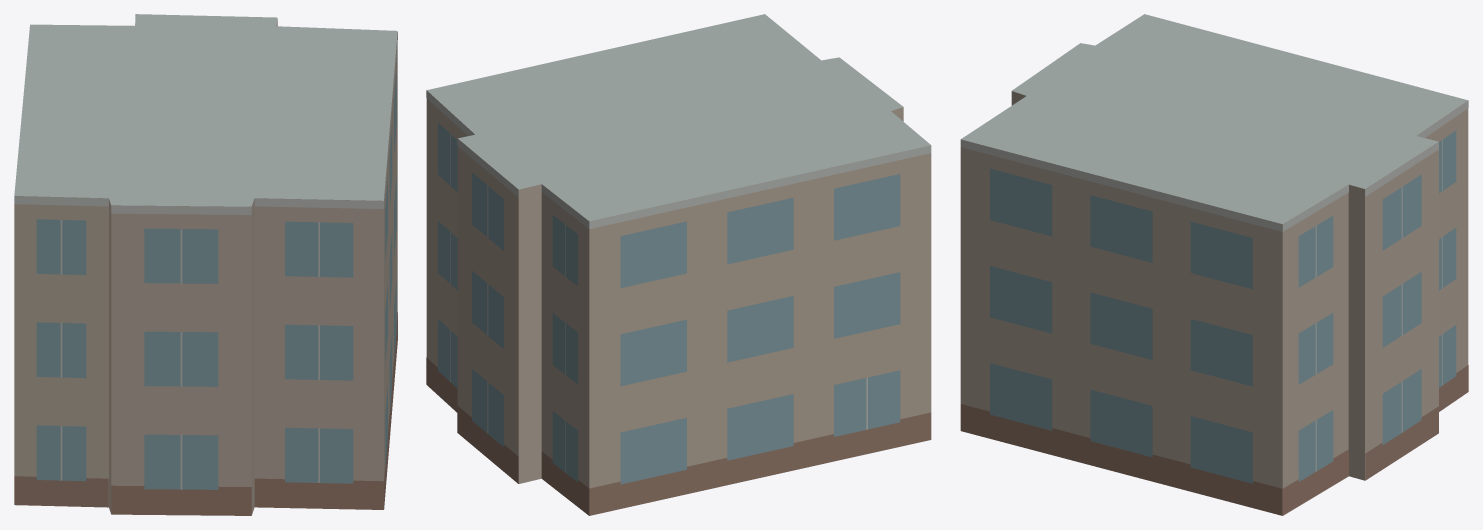
The model's file is survey-upis-32735122.glb.
The picture shows the model from 3 angles, left to right: view 1: azimuth 30°, elevation 25°; view 2: azimuth 150°, elevation 25°; view 3: azimuth 270°, elevation 25°; orthographic projection. The views are drawn at different scales.
Parts seen in each view (by area): view 1: survey-upis-32735122.tmp; view 2: survey-upis-32735122.tmp; view 3: survey-upis-32735122.tmp.
Boxes of the visible parts, x1=… form: survey-upis-32735122.tmp: x1=14, y1=14, x2=397, y2=515; survey-upis-32735122.tmp: x1=426, y1=14, x2=931, y2=515; survey-upis-32735122.tmp: x1=960, y1=14, x2=1468, y2=515.
Bounding box in the file's own units: 14.15 × 9.15 × 14.45.
